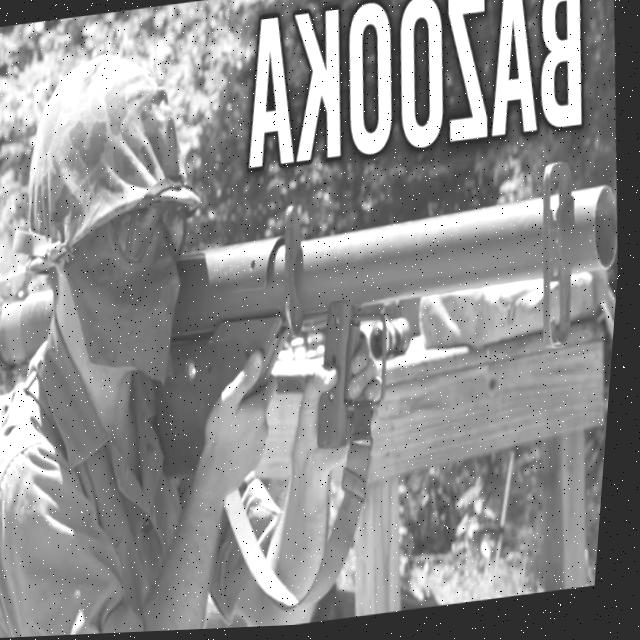rocket: (0, 159, 629, 498)
